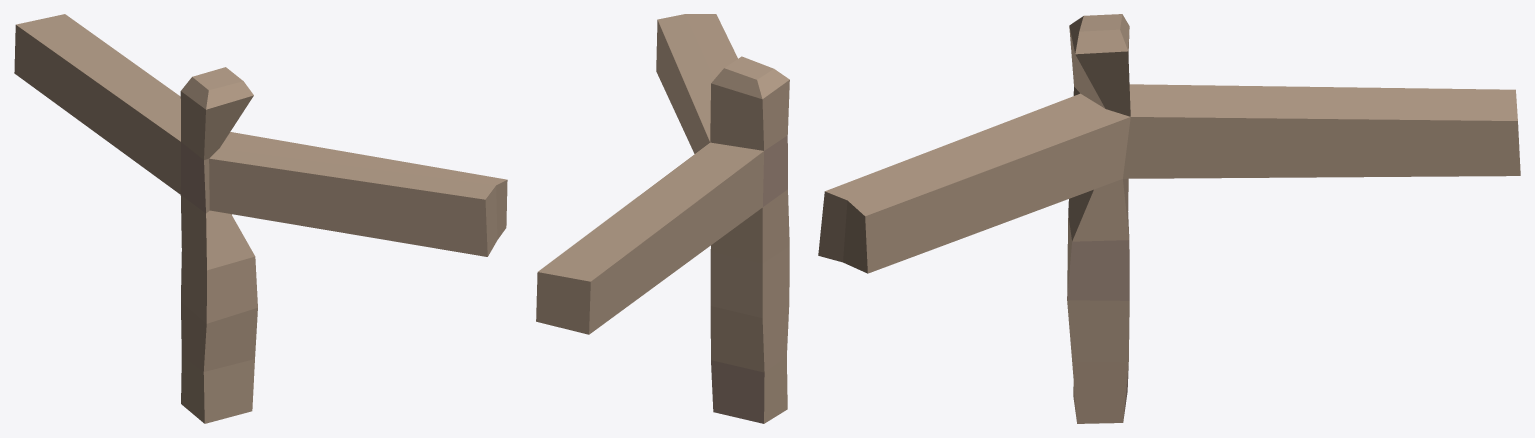
The model's file is Fence.fbx.
The picture shows the model from 3 angles, left to right: view 1: azimuth 30°, elevation 25°; view 2: azimuth 150°, elevation 25°; view 3: azimuth 270°, elevation 25°; orthographic projection. The views are drawn at different scales.
Parts seen in each view (by area): view 1: Cube.003; view 2: Cube.003; view 3: Cube.003.
Part boxes in pixels (box(x1,y1,x2,y2)): Cube.003: box(14, 14, 507, 423); Cube.003: box(536, 14, 789, 423); Cube.003: box(818, 14, 1520, 423).
Bounding box in the file's own units: 129 × 191 × 311.
